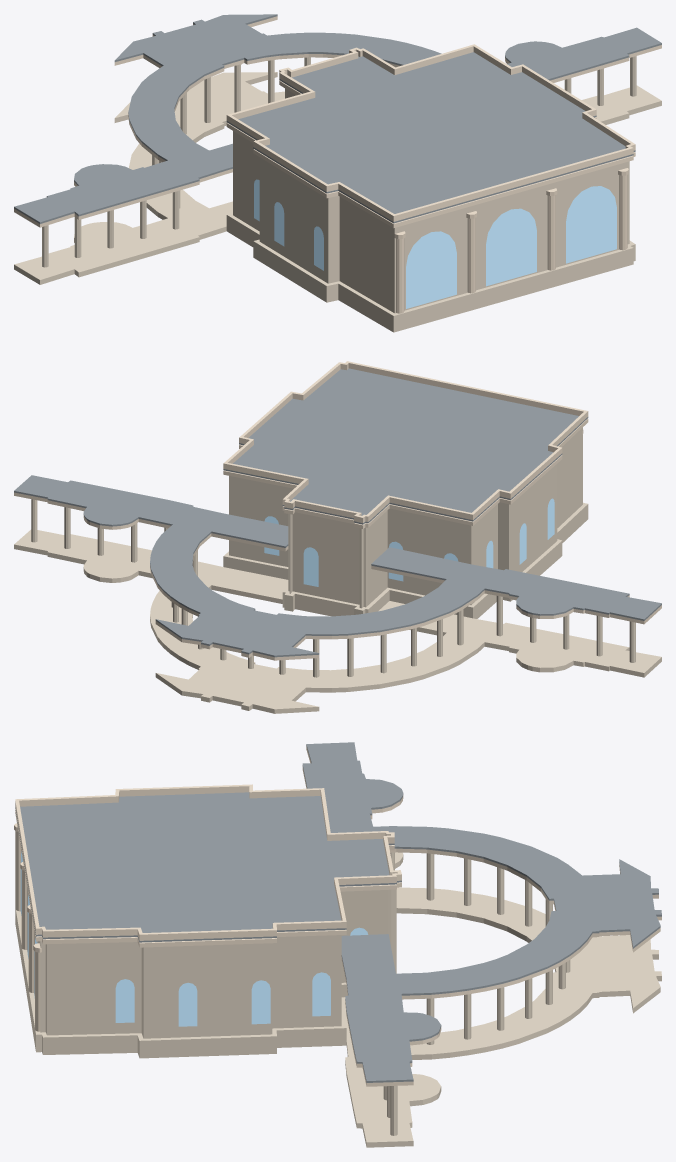
Rendered from detail.glb.
3 views of the same model, one above another, from view 1: azimuth 30°, elevation 25°; view 2: azimuth 150°, elevation 25°; view 3: azimuth 270°, elevation 25° (orthographic). The views are drawn at different scales.
Visible parts, largest first — view 1: roof, stone, trim, window; view 2: roof, stone, trim, window; view 3: roof, stone, trim, window.
Boxes of the visible parts, x1,y1,x2,y2 form: roof: (14,14,661,223); stone: (14,56,661,332); trim: (14,16,661,313); window: (254,179,616,308); roof: (14,368,661,657); stone: (14,427,661,713); trim: (14,361,661,660); window: (264,498,554,586); roof: (15,742,661,1082); stone: (15,849,661,1147); trim: (14,746,661,1086); window: (20,851,368,1026).
Size of the model in its own units: 76.38 by 13 by 61.72.
